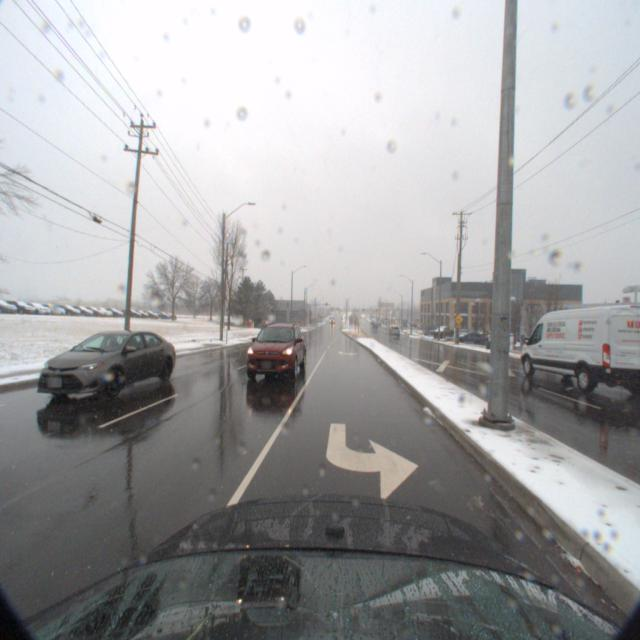Car: (245, 322, 311, 388)
